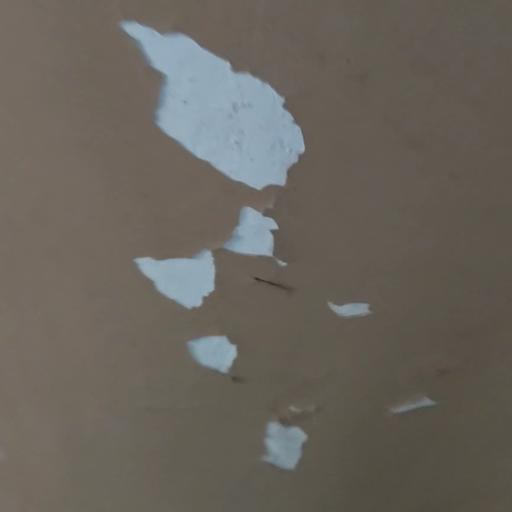peeling: (94, 0, 381, 489), (380, 378, 455, 432)
